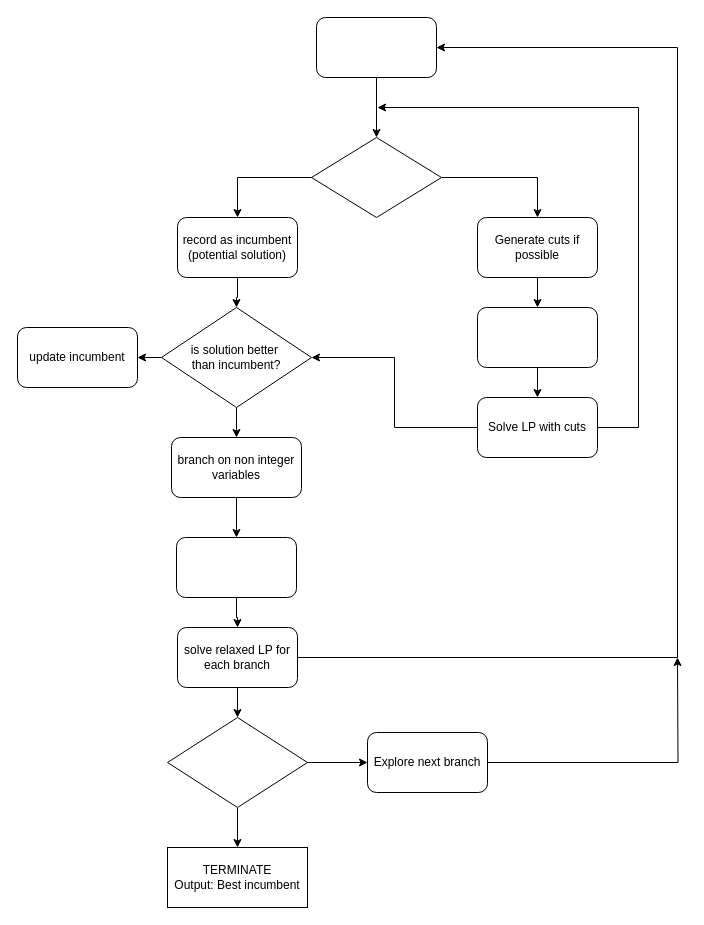
Image size: 704x925. Some labels were removed from this diagram. Each missing label, with the box of its shape:
Add cuts to LP: (476, 306, 598, 368)
check all subproblems solved: (166, 716, 308, 808)
explore subproblems: (176, 536, 296, 598)
is solution integer?: (310, 136, 442, 218)
Solve Relaxed Linearm Programming: (316, 16, 436, 78)
